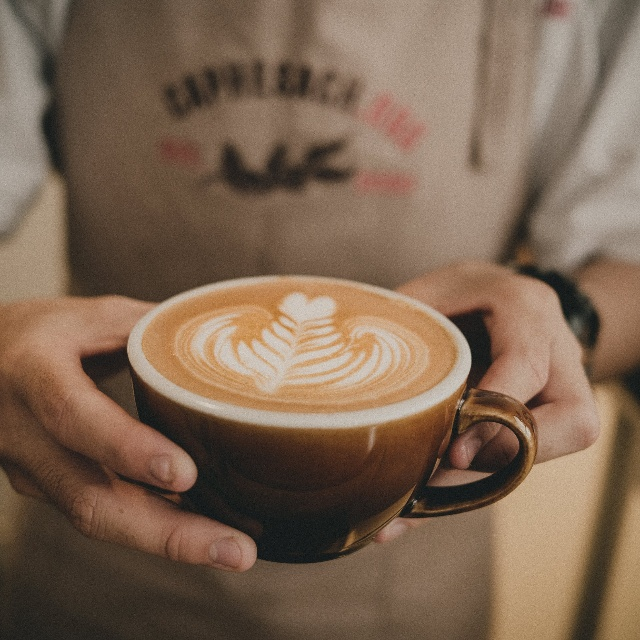Sin_guantes: (0, 295, 258, 573), (374, 259, 601, 546)
